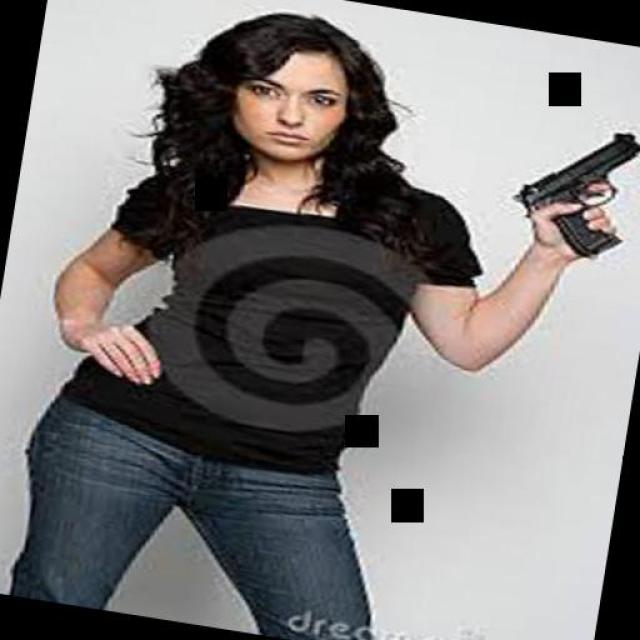gun: (510, 110, 640, 259)
